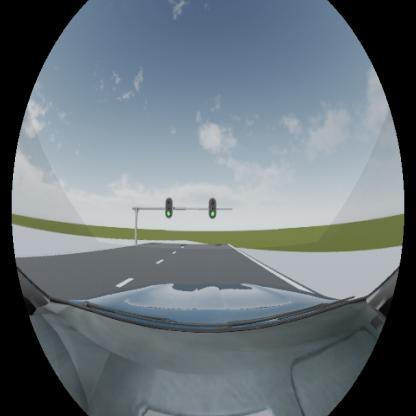Green Light: (165, 198, 173, 218), (209, 198, 217, 218)
